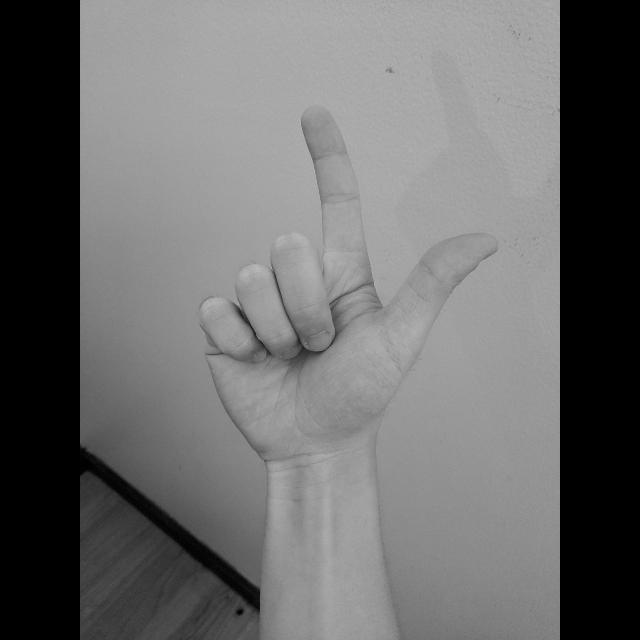L: (192, 98, 506, 472)
